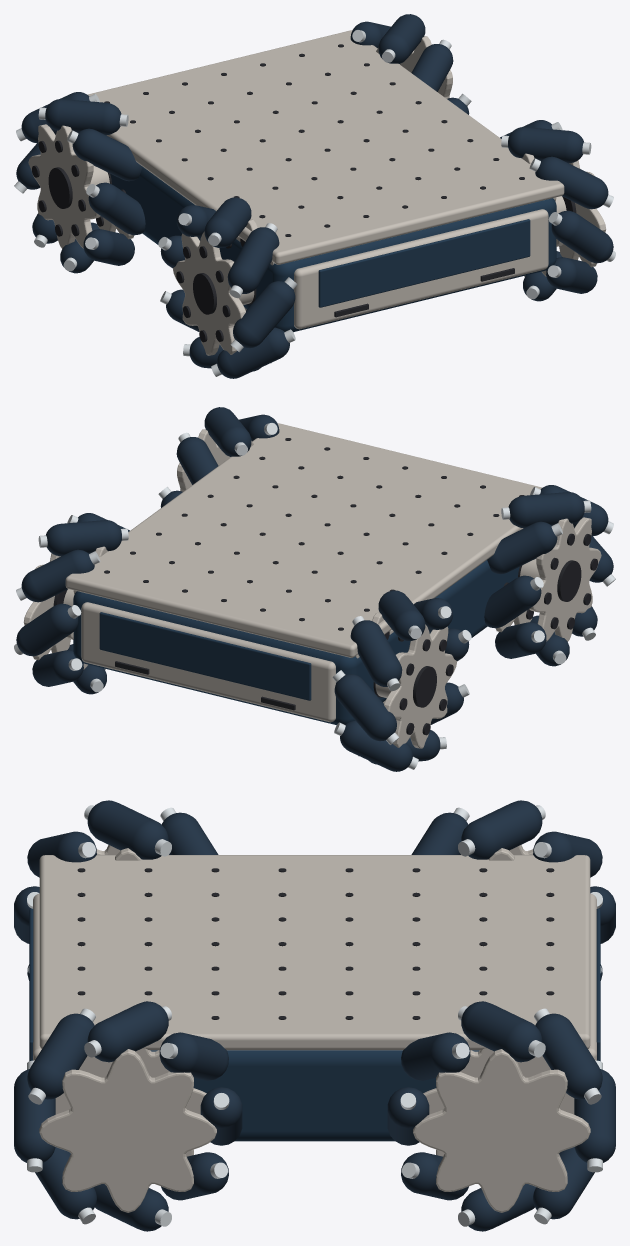
Rendered from robots-15.glb.
3 views of the same model, one above another, from view 1: azimuth 30°, elevation 25°; view 2: azimuth 150°, elevation 25°; view 3: azimuth 270°, elevation 25° (orthographic). The views are drawn at different scales.
Visible parts, largest first — view 1: top, rollers, panels, plates, frame, pins, axles; view 2: top, rollers, panels, plates, frame, pins, axles; view 3: top, rollers, plates, frame, pins, panels.
Boxes of the visible parts, box(x1,y1,x2,y2) form: top: box(88, 30, 564, 264); rollers: box(16, 14, 613, 378); panels: box(294, 209, 548, 329); plates: box(28, 36, 606, 355); frame: box(110, 167, 556, 332); pins: box(14, 30, 615, 376); axles: box(90, 166, 566, 304); top: box(65, 423, 541, 657); rollers: box(16, 407, 613, 771); panels: box(81, 602, 335, 722); plates: box(23, 429, 601, 748); frame: box(73, 560, 519, 725); pins: box(14, 423, 615, 769); axles: box(63, 559, 539, 697); top: box(39, 855, 590, 1050); rollers: box(14, 800, 615, 1231); plates: box(39, 845, 590, 1212); frame: box(150, 1050, 479, 1141); pins: box(27, 805, 602, 1226); panels: box(29, 893, 600, 1061).
Size of the model in its own units: 2.36 by 0.944 by 2.48.
